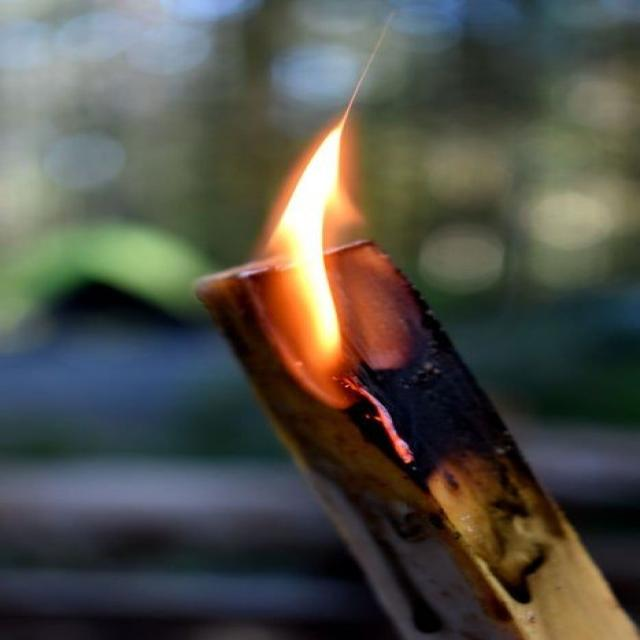fire: (253, 111, 366, 409)
